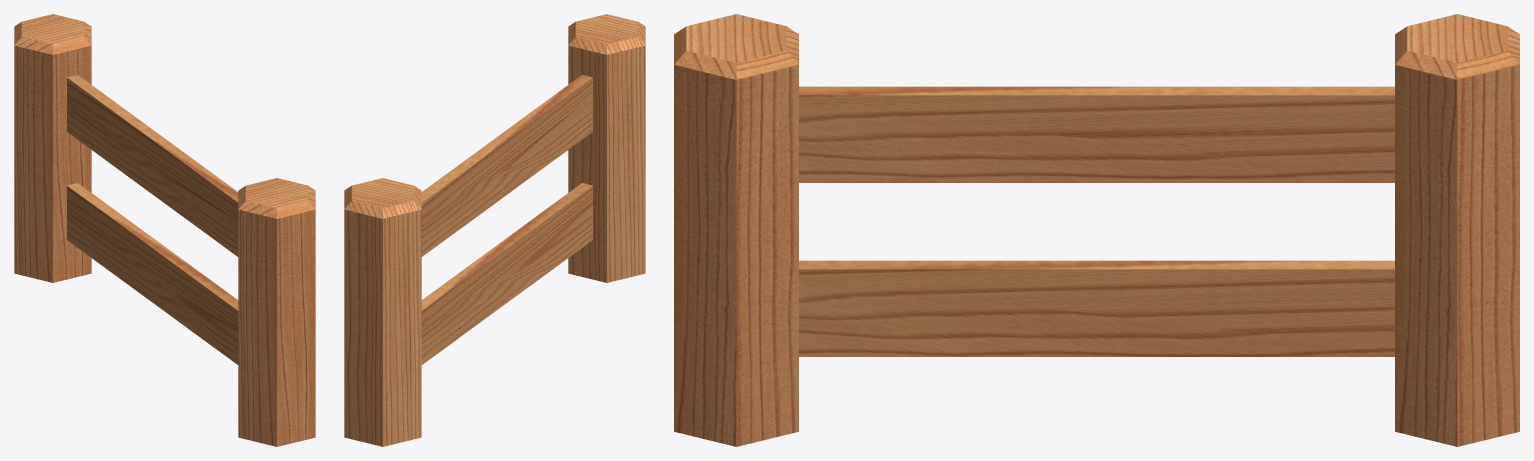
File: fence3.fbx
The picture shows the model from 3 angles, left to right: view 1: azimuth 30°, elevation 25°; view 2: azimuth 150°, elevation 25°; view 3: azimuth 270°, elevation 25°; orthographic projection. The views are drawn at different scales.
Visible parts, largest first — view 1: W_rfel_2; view 2: W_rfel_2; view 3: W_rfel_2.
Part boxes in pixels (bbox=[...]): W_rfel_2: bbox=[14, 14, 315, 446]; W_rfel_2: bbox=[344, 14, 645, 446]; W_rfel_2: bbox=[674, 14, 1519, 446].
Bounding box in the file's own units: 83.6 × 242 × 490.
